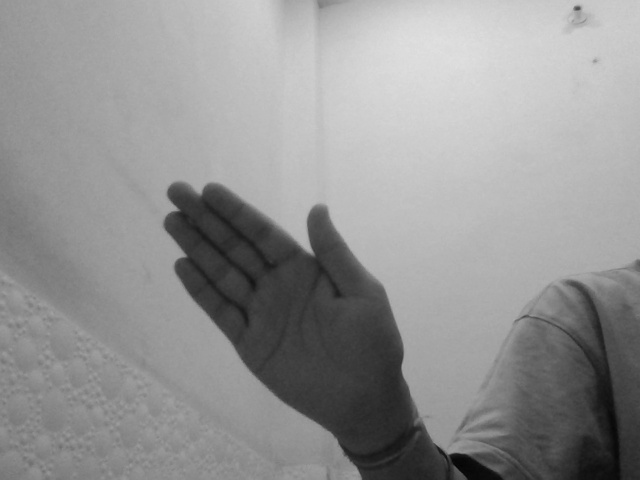Hello: (157, 175, 409, 435)
